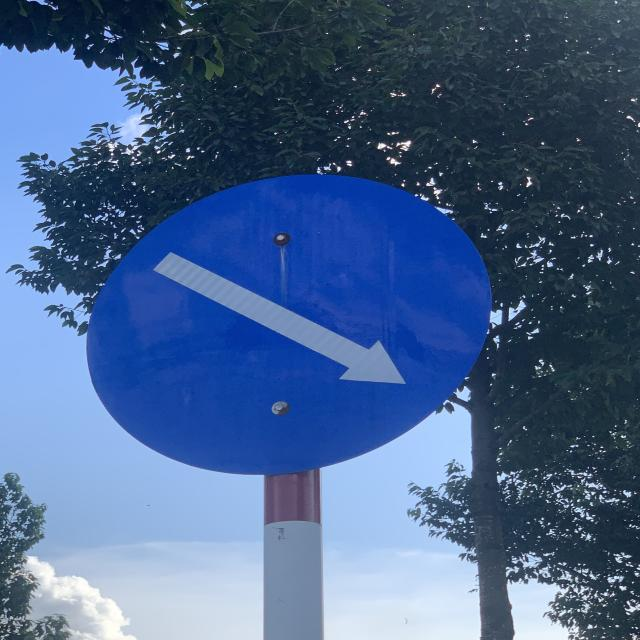Chi_Huong_Di_Phai: (90, 172, 496, 476)
